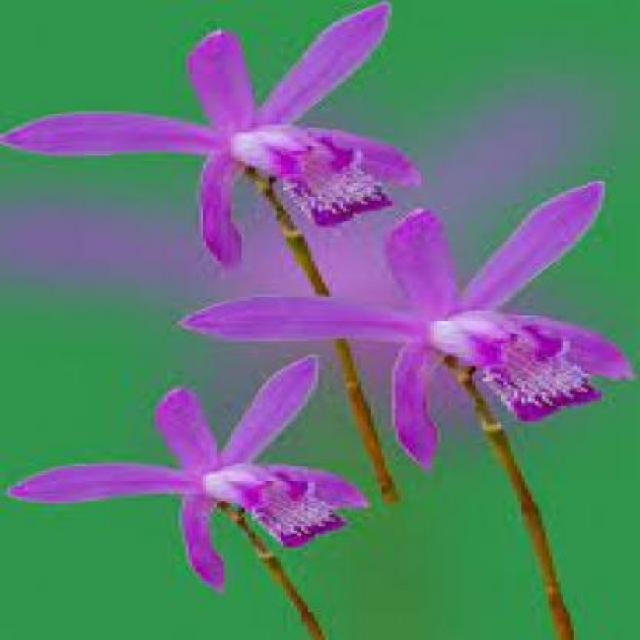Flower: (178, 181, 633, 468), (4, 2, 427, 276), (7, 352, 371, 591)
